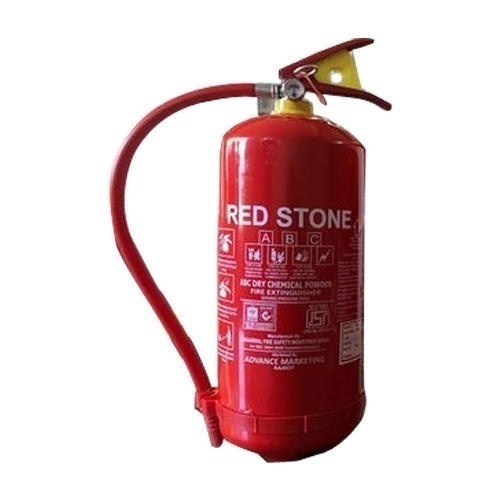fire_extinguisher: (108, 36, 393, 464)
